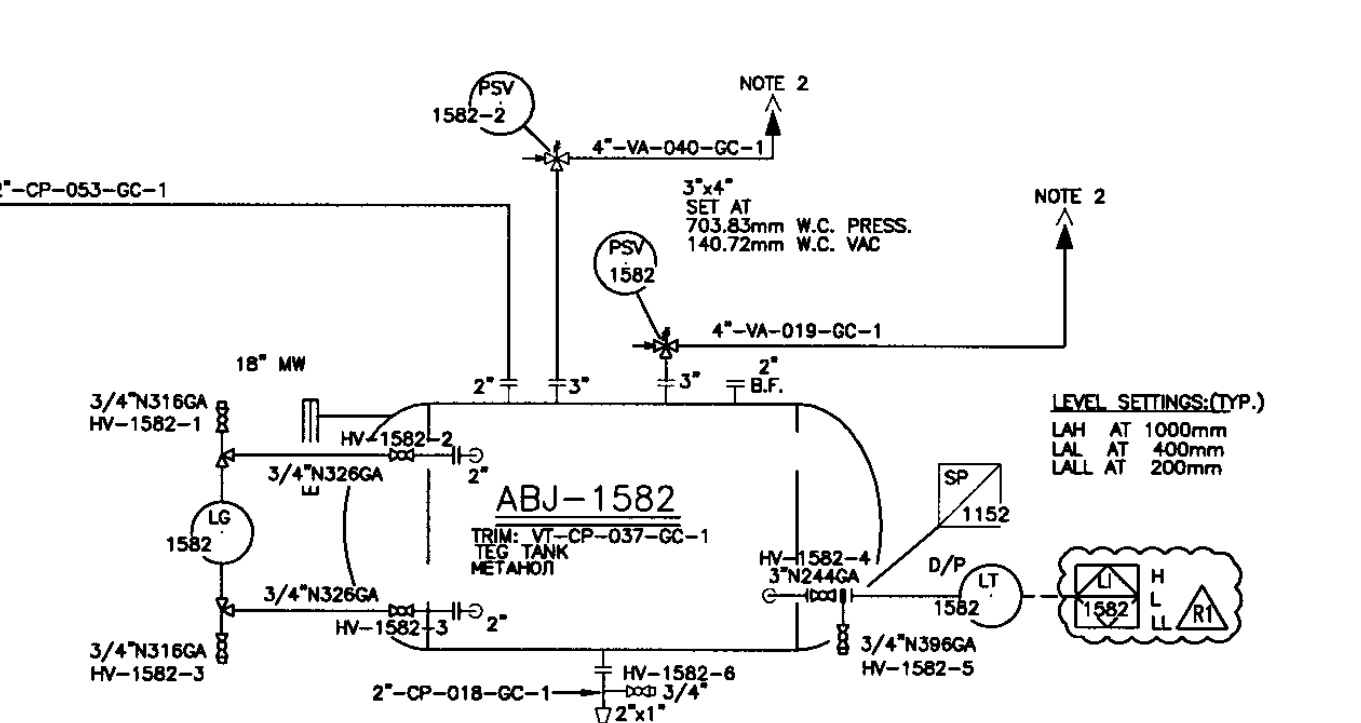Instrument-offset: (425, 63, 543, 139), (919, 555, 1027, 630), (160, 492, 263, 569), (589, 223, 662, 304)
